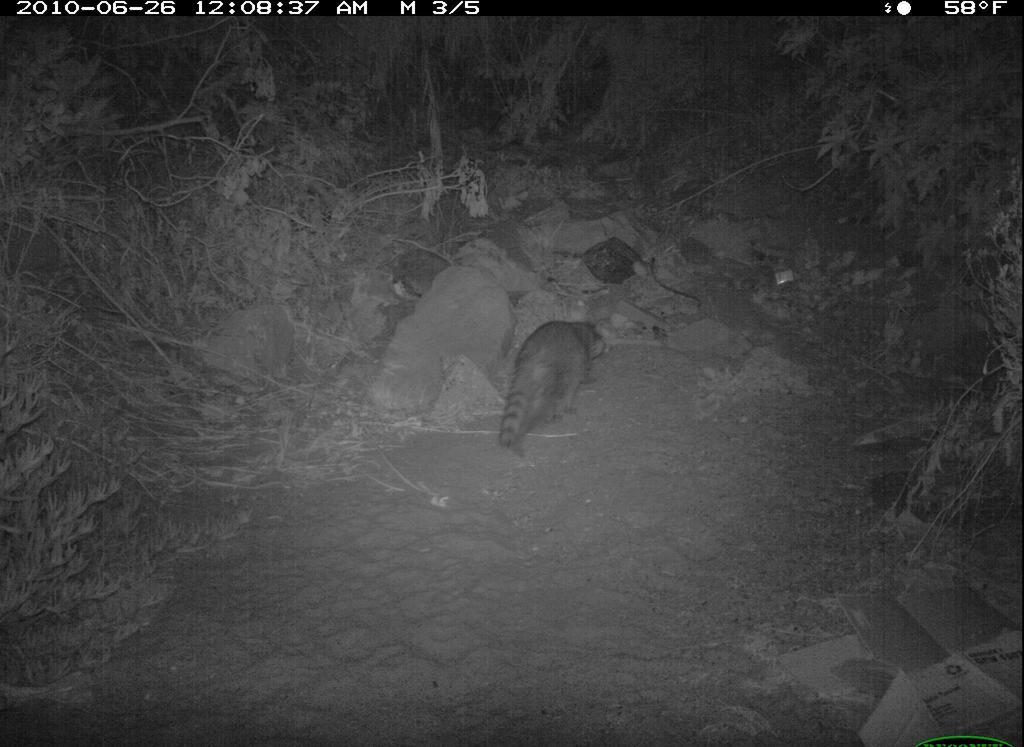raccoon: (489, 314, 612, 459)
